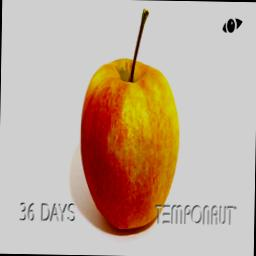Apple Ripe: (79, 1, 183, 232)
